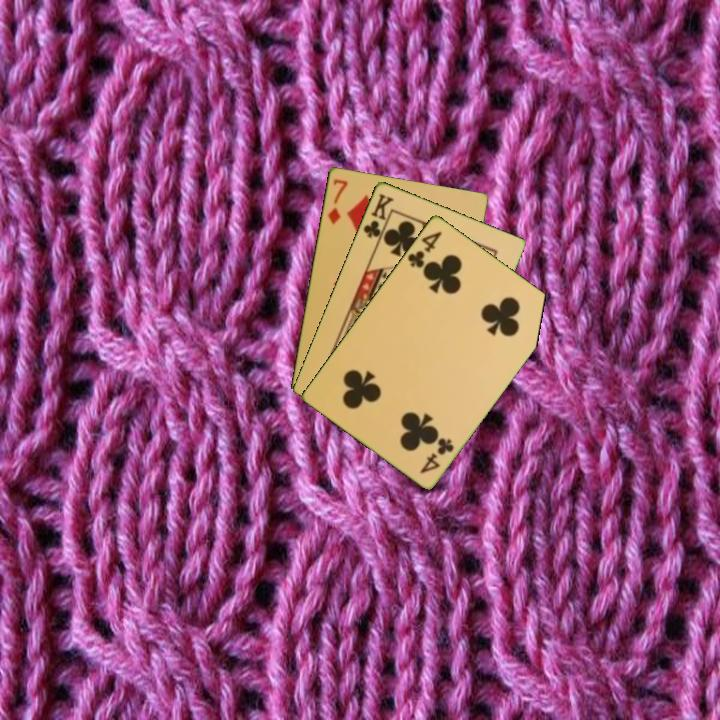4c: (404, 227, 445, 271), (416, 434, 457, 476)
7d: (324, 175, 350, 227)
Kc: (359, 190, 396, 246)
